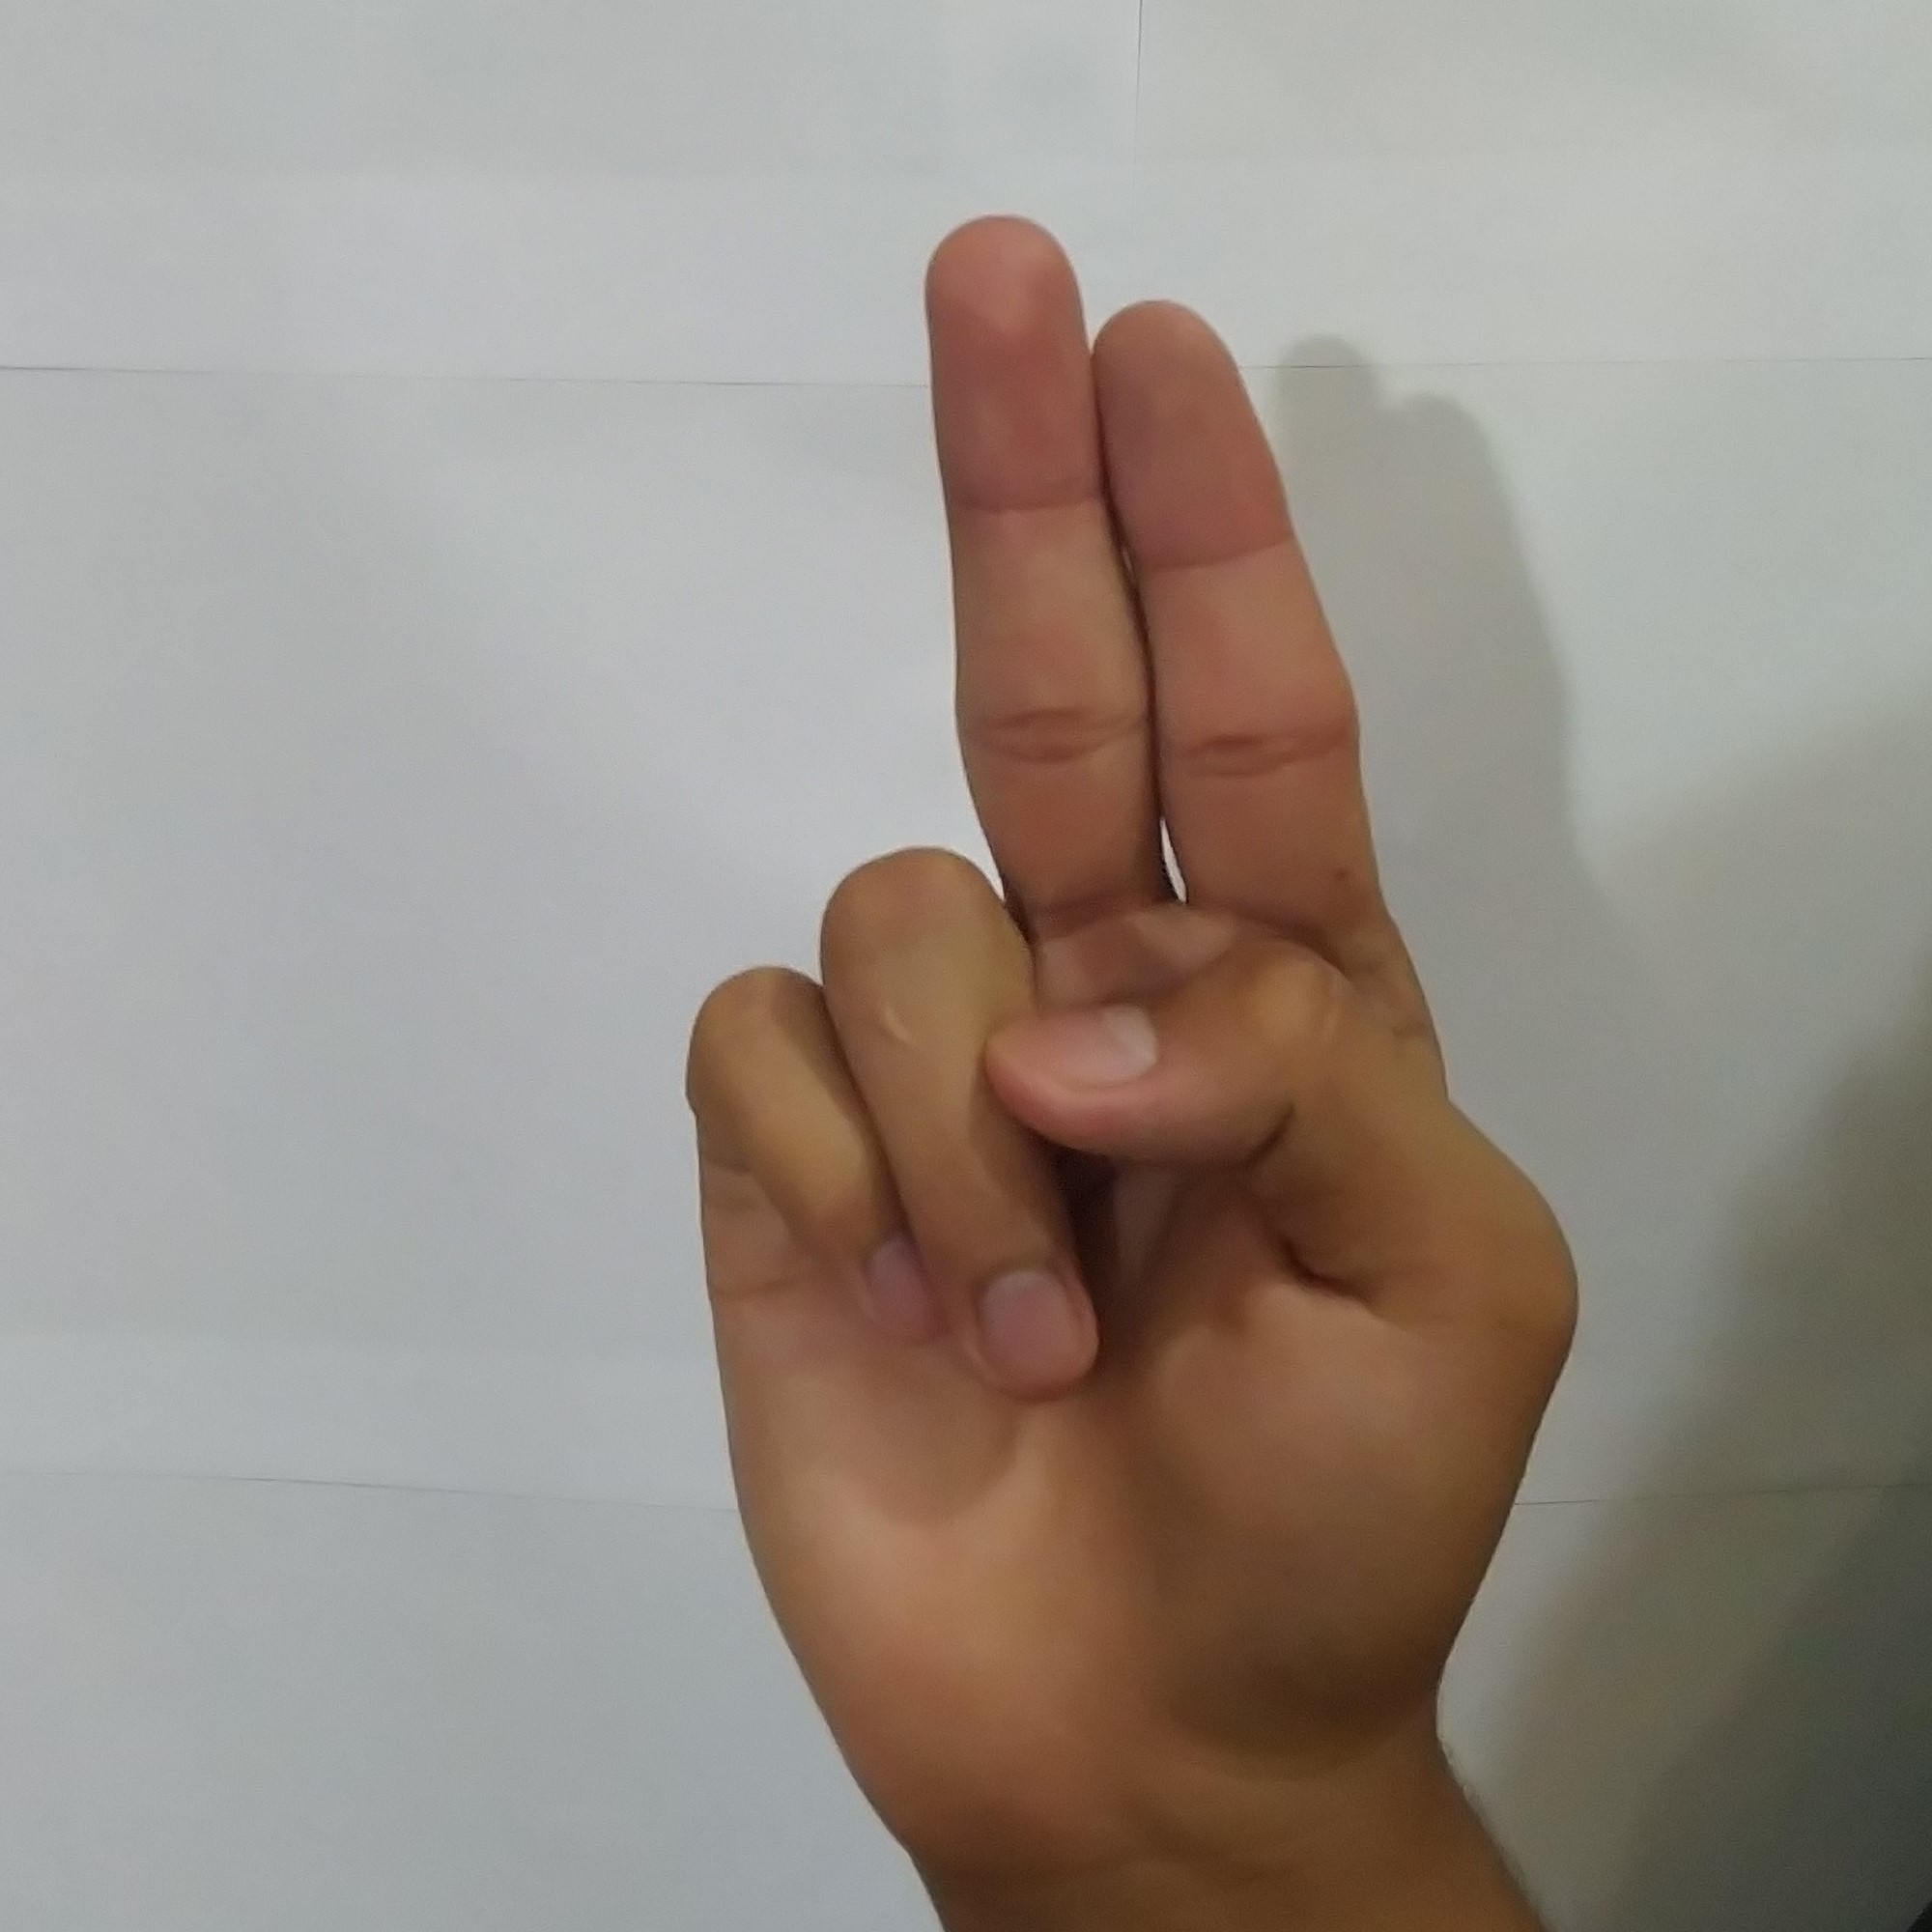U: (642, 175, 1601, 1854)
